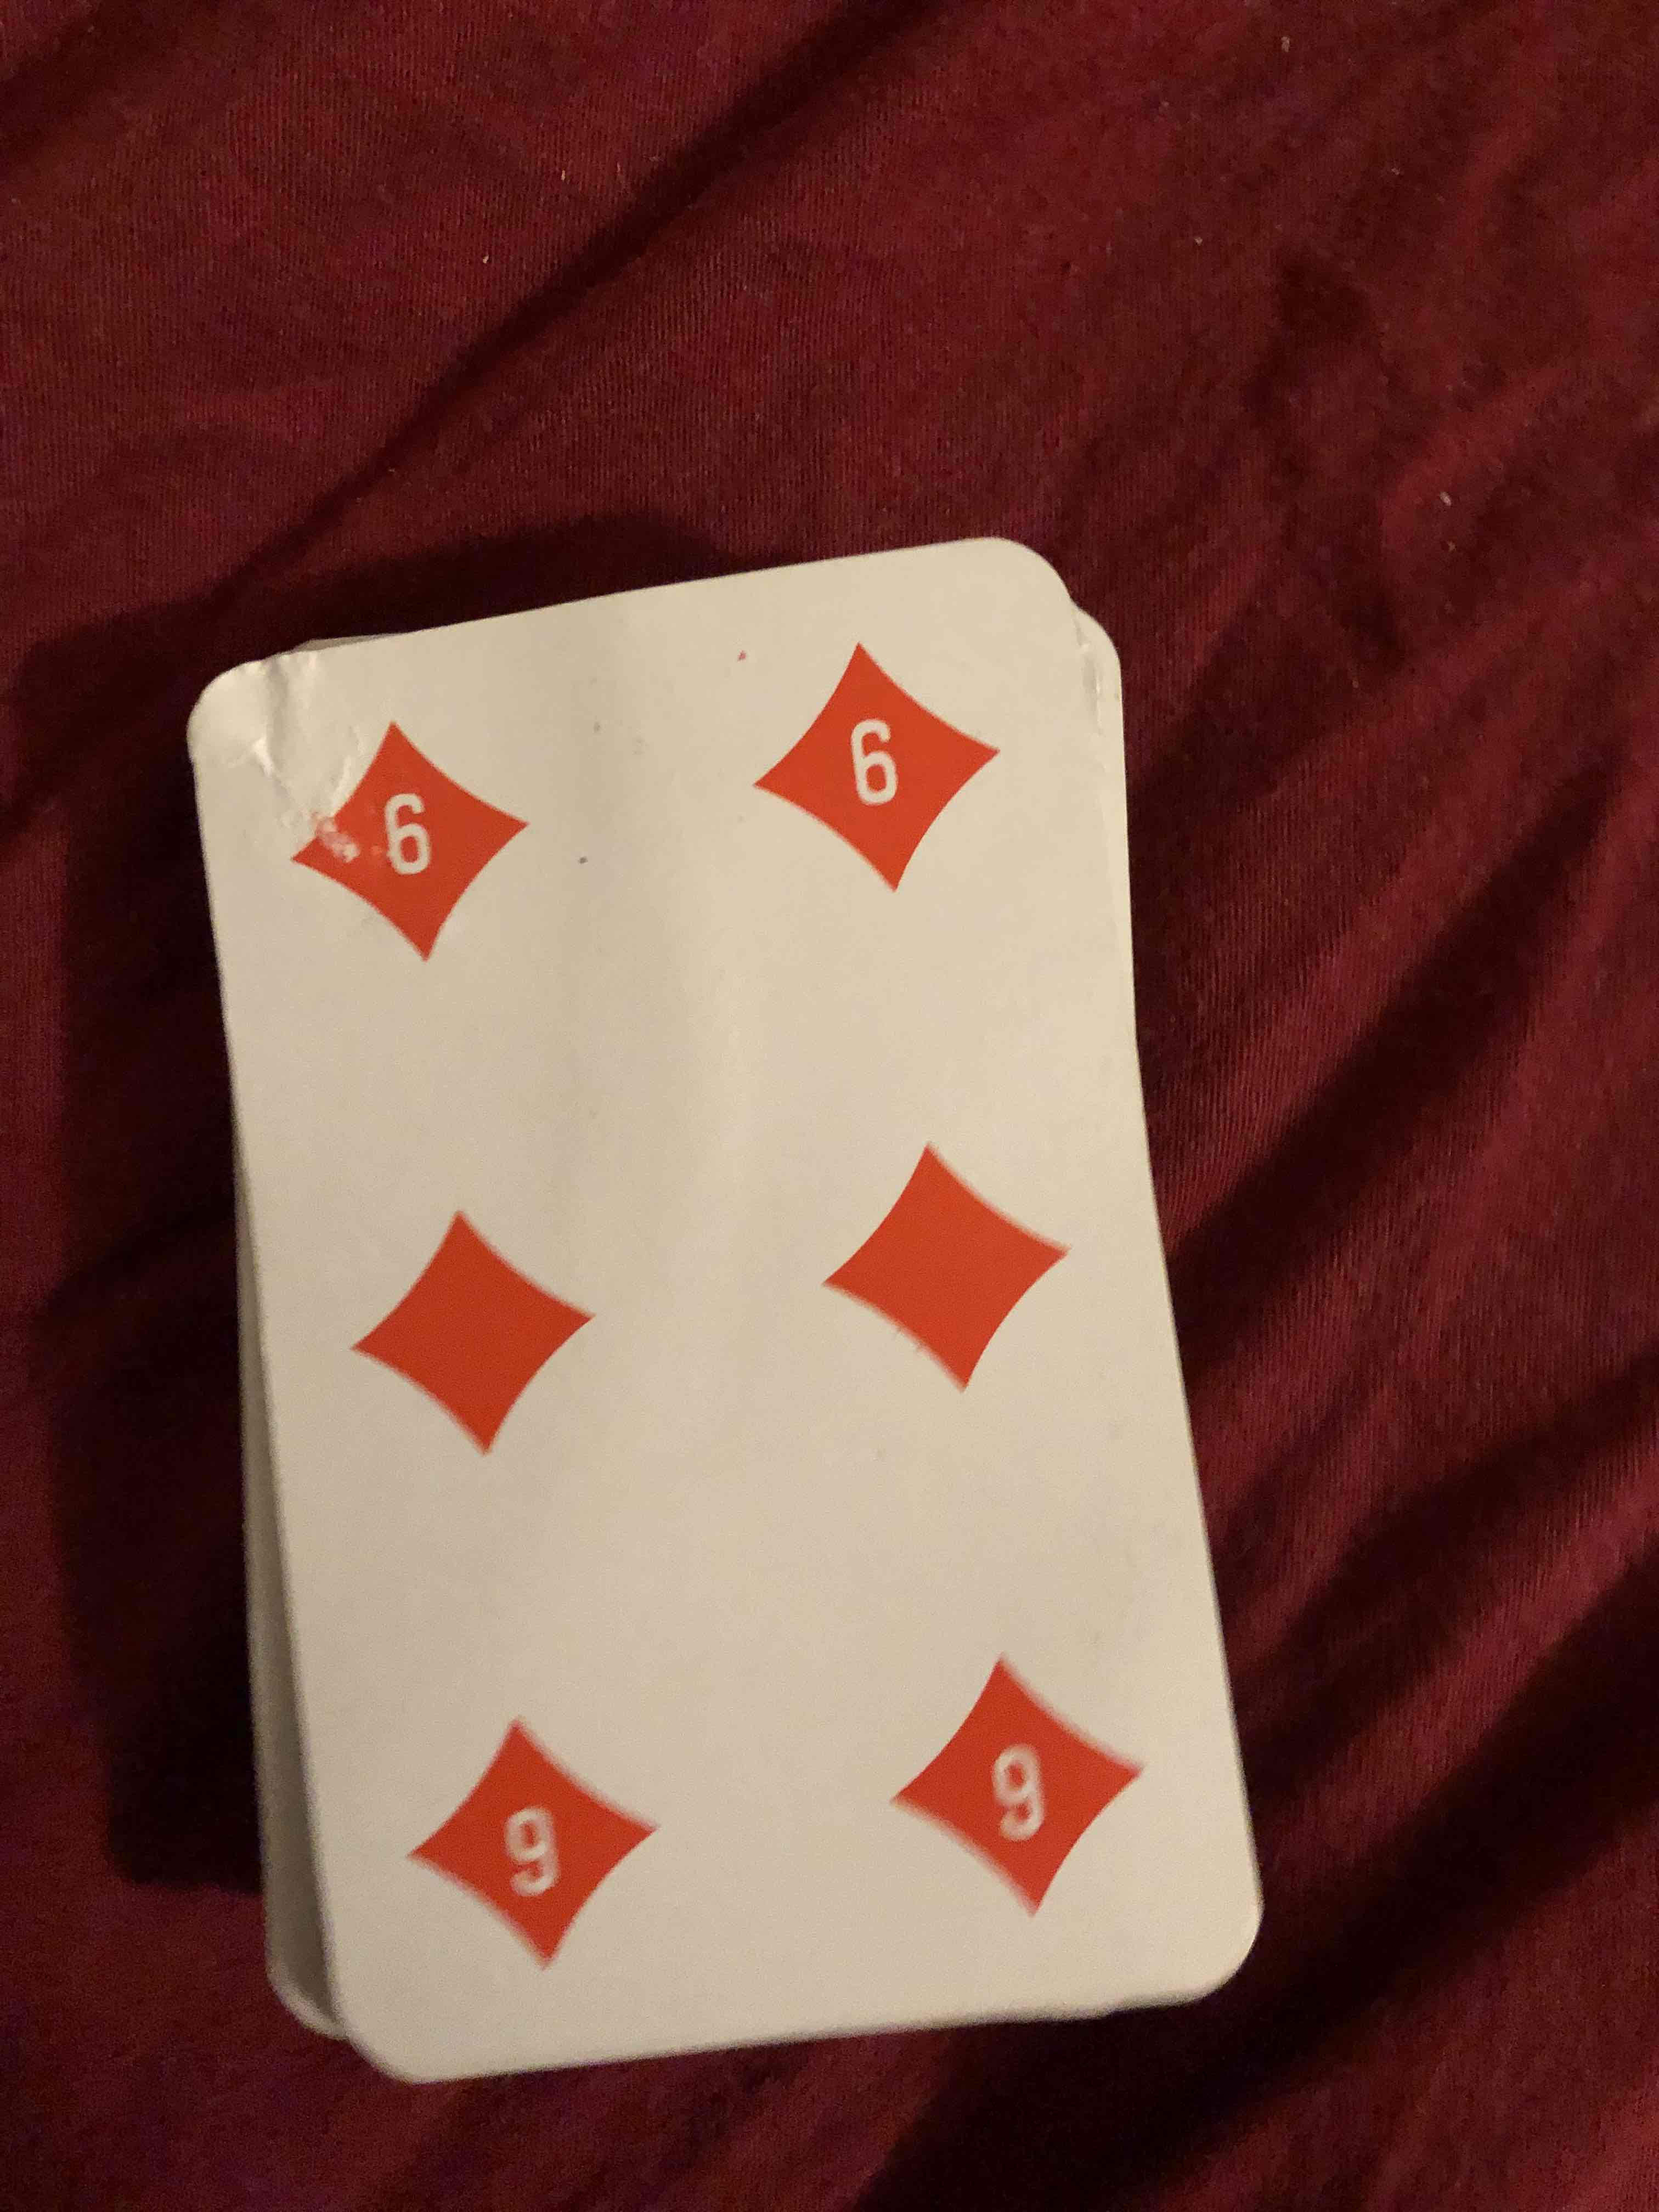diamond6: (207, 596, 1183, 1996)
